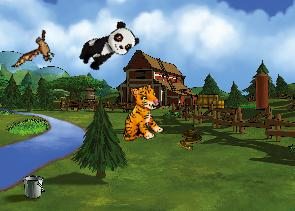eagle: (11, 23, 62, 80)
panda: (74, 17, 141, 77)
tiger: (111, 82, 169, 146)
